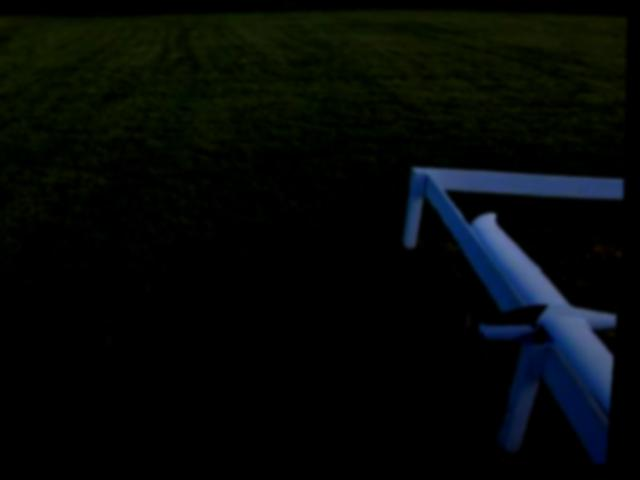iha: (458, 197, 629, 471)
